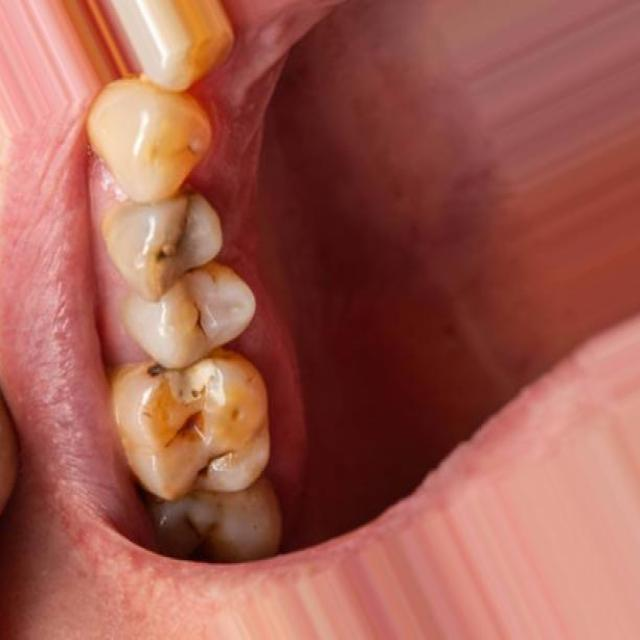caries: (162, 404, 210, 462), (146, 218, 194, 272), (192, 447, 242, 494), (182, 294, 223, 344), (138, 351, 174, 397), (218, 396, 254, 441)
